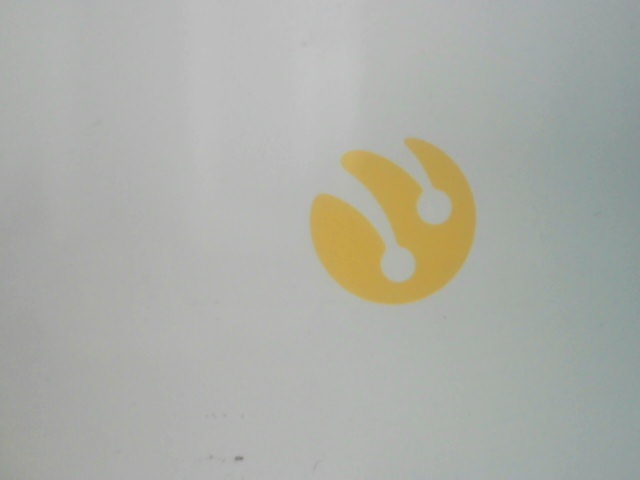AV_H3600Yellow: (292, 132, 484, 309)
